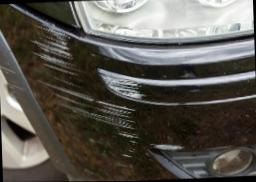Bumper: (2, 4, 160, 181)
